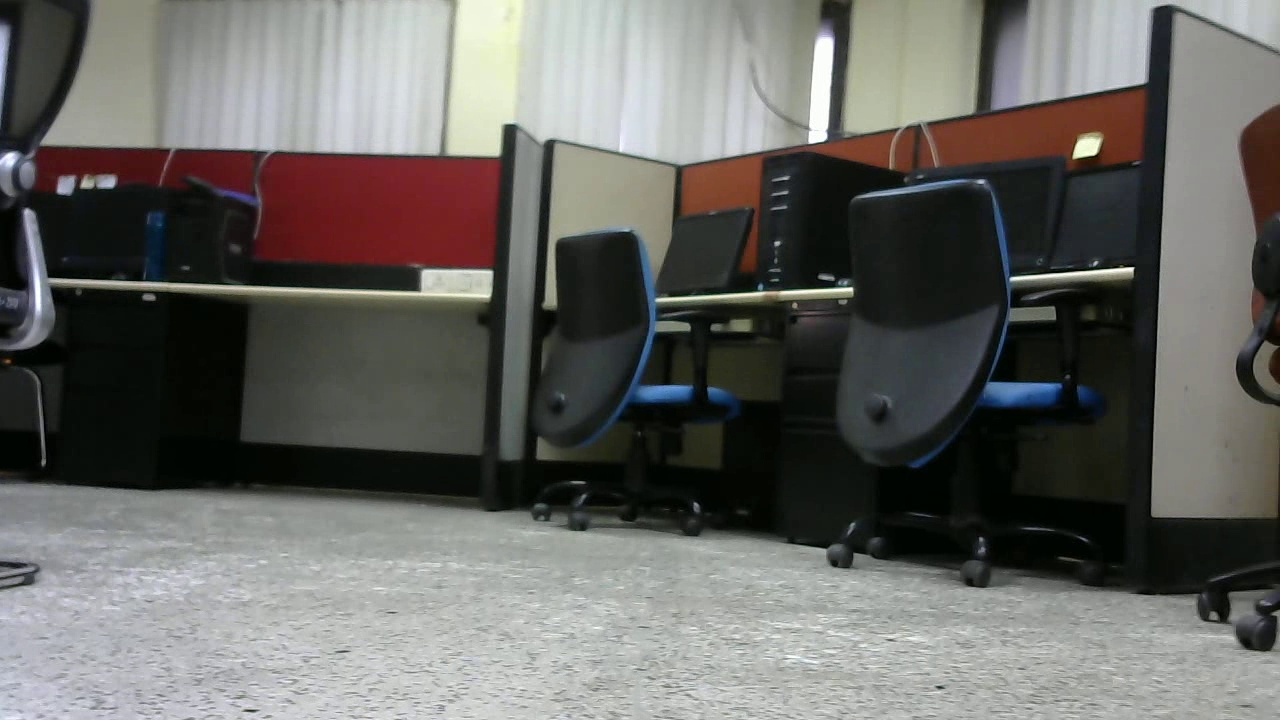chair: (822, 176, 1116, 587), (513, 225, 750, 540)
